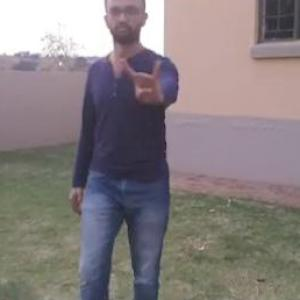takeoff-hand: (114, 50, 174, 107)
